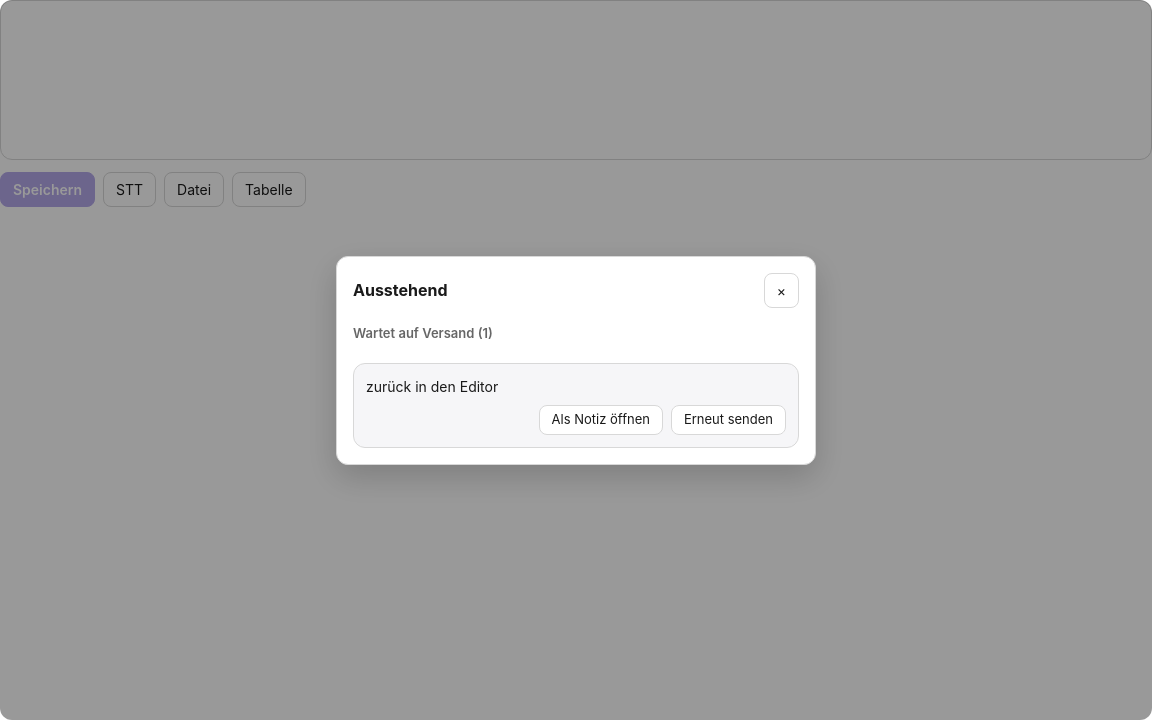
Test: CaptureView › Speichern never loses a note › Als Notiz öffnen restores the text into a new note and removes it from both stores
The image size is (1152, 720).
Click the button "Als Notiz öffnen". click: point(601, 420)
box: [539, 405, 663, 434]
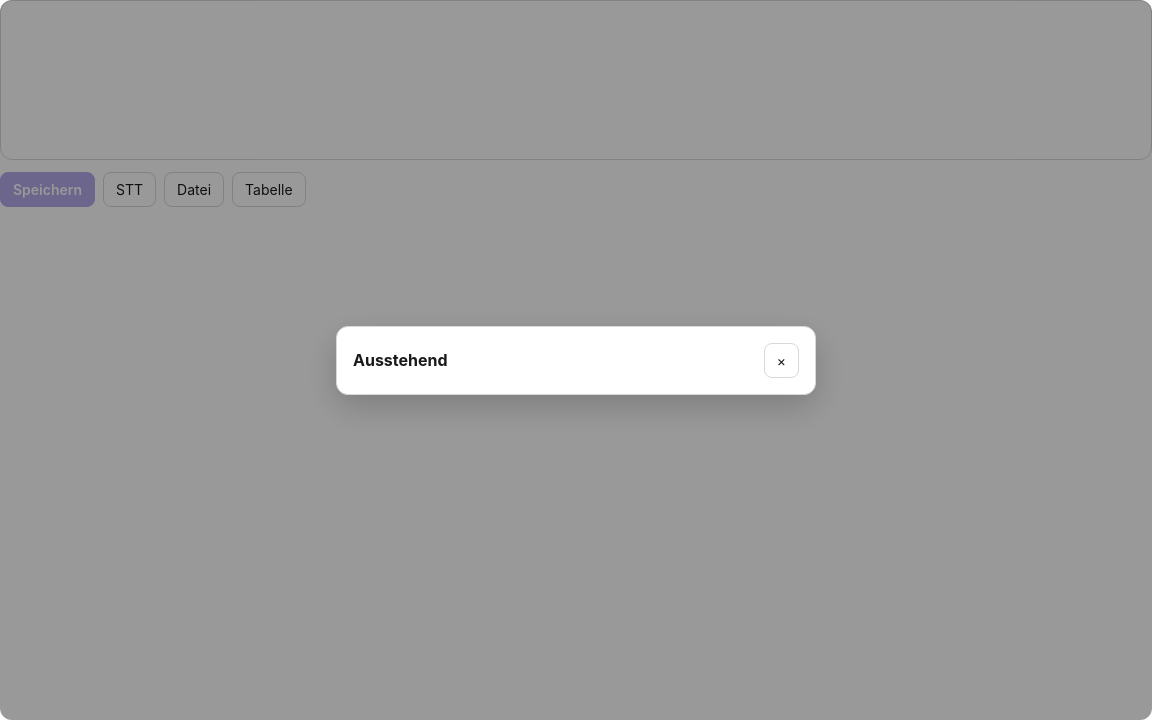
Result: the element "Wartend" is gone
